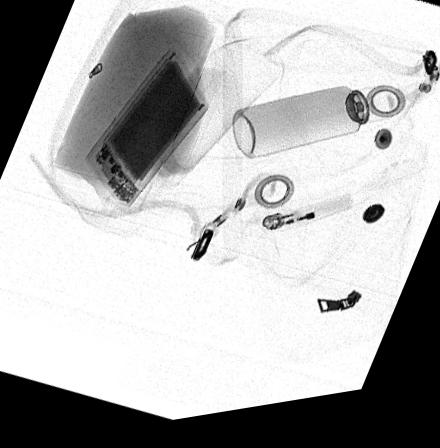Lighter: (261, 204, 352, 241)
Powerbank: (83, 51, 210, 213)
Sprayer: (232, 96, 394, 166)
